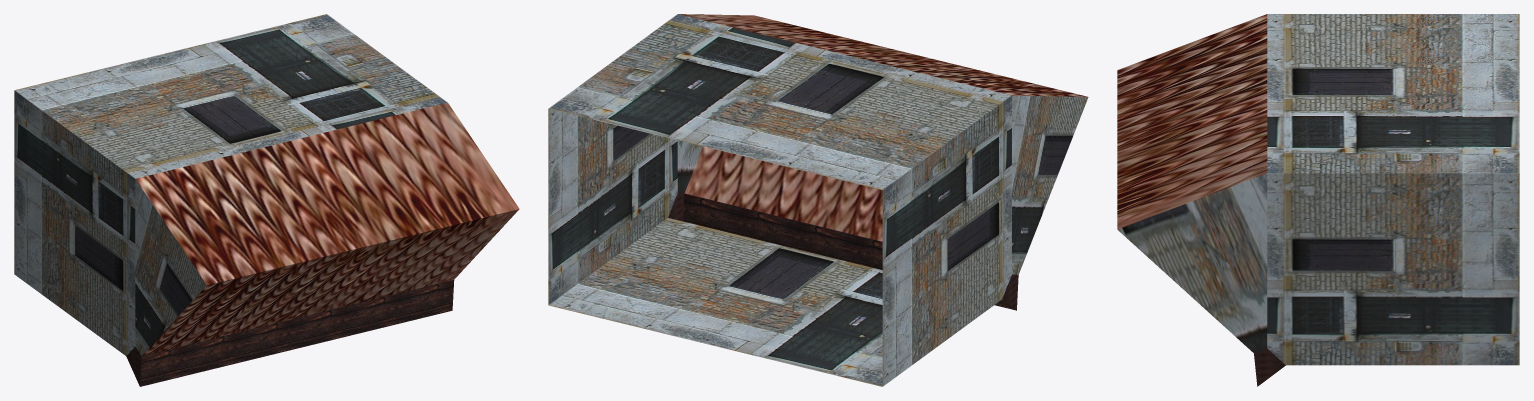
The model's file is houseduchamp04_wtf.obj.
3 views of the same model, side by side, from view 1: azimuth 30°, elevation 25°; view 2: azimuth 150°, elevation 25°; view 3: azimuth 270°, elevation 25° (orthographic). The views are drawn at different scales.
Parts seen in each view (by area): view 1: group2; view 2: group2; view 3: group2.
Part boxes in pixels (x1,y1,x2,y2): group2: (14,14,519,386); group2: (548,14,1088,386); group2: (1117,14,1519,386).
Size of the model in its own units: 618 by 387 by 660.
